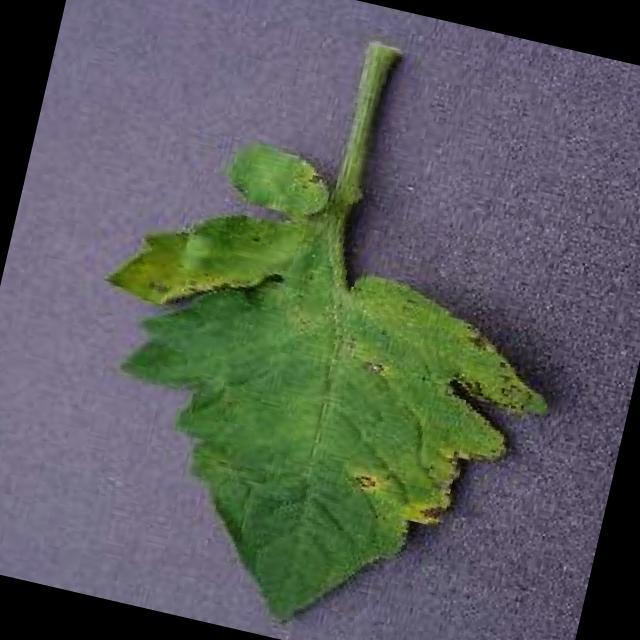Tomato Septoria spot leaf: (38, 118, 593, 640)
